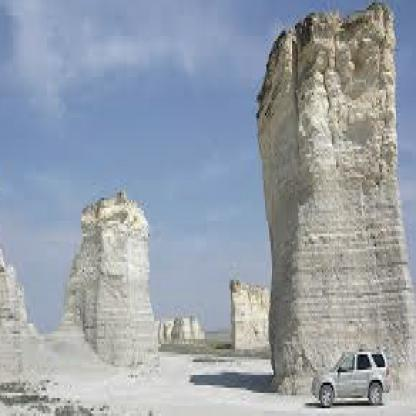Sedimentary_Chalk: (272, 110, 393, 352), (50, 234, 138, 385)
